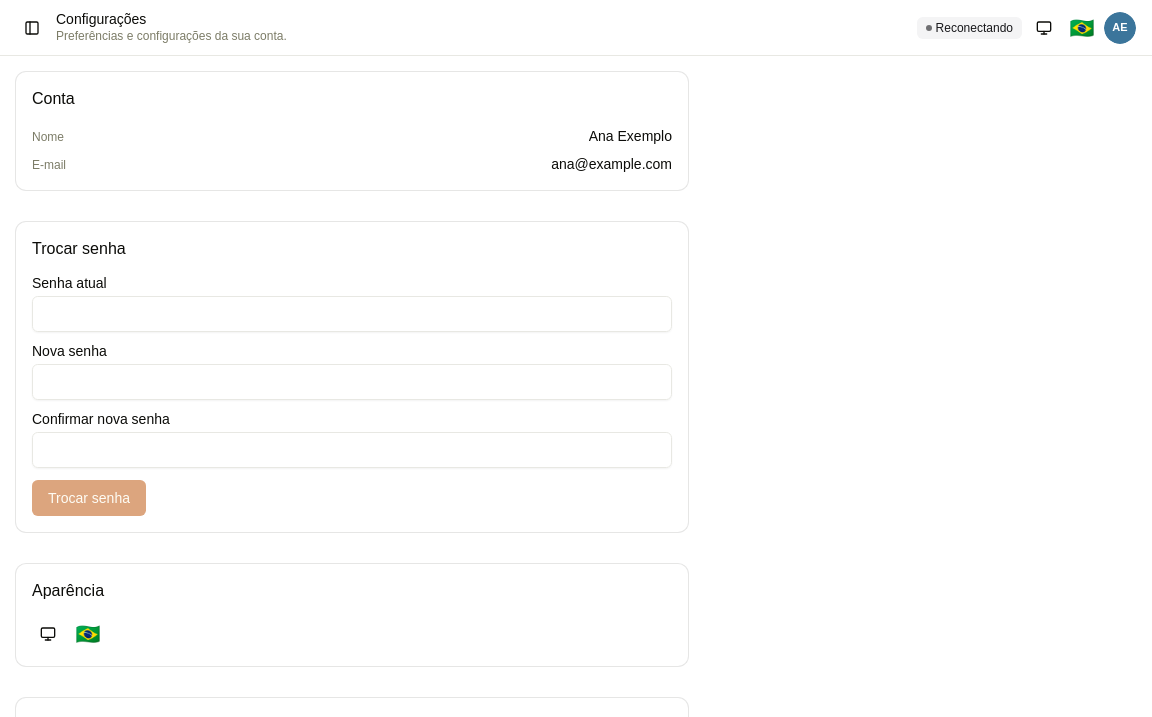
Test: settings: change password › changes the password and confirms with a message
expect the heading "Trocar senha" is shown: met, box [32, 240, 126, 257]
Type "senha-atual-123" into the password field labelled "Senha atual" at [352, 314], box [32, 296, 672, 332]
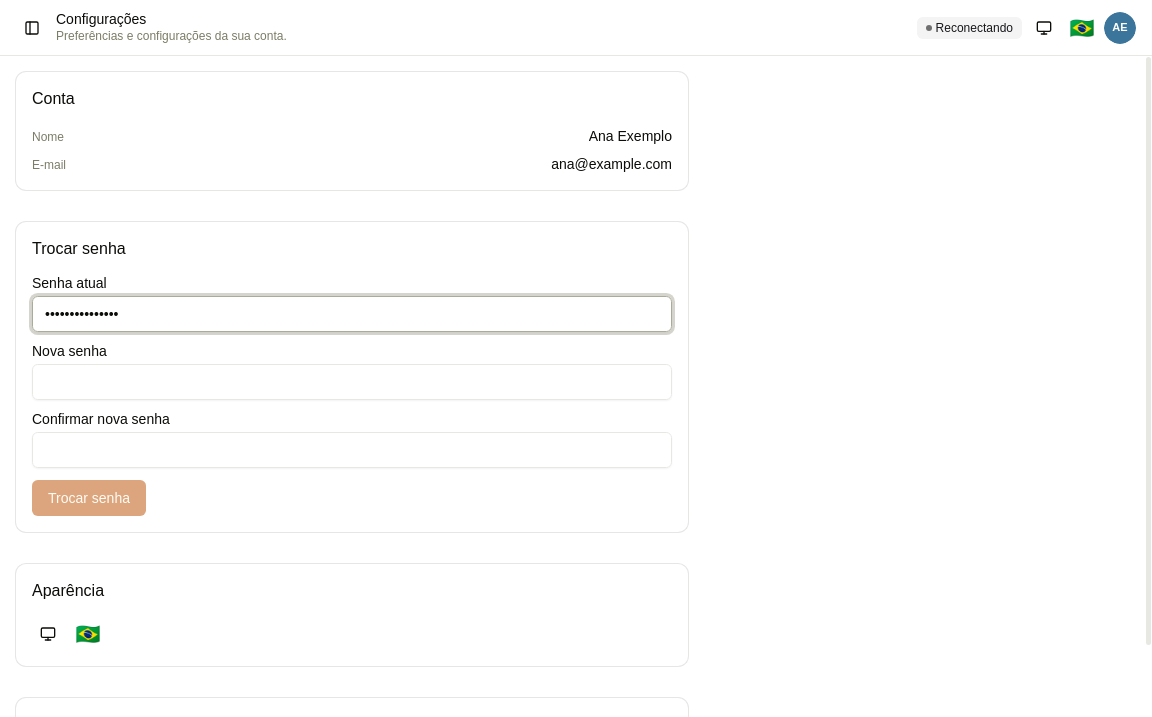
Type "nova-senha-123" into the password field labelled "Nova senha" at [352, 382], box [32, 364, 672, 400]
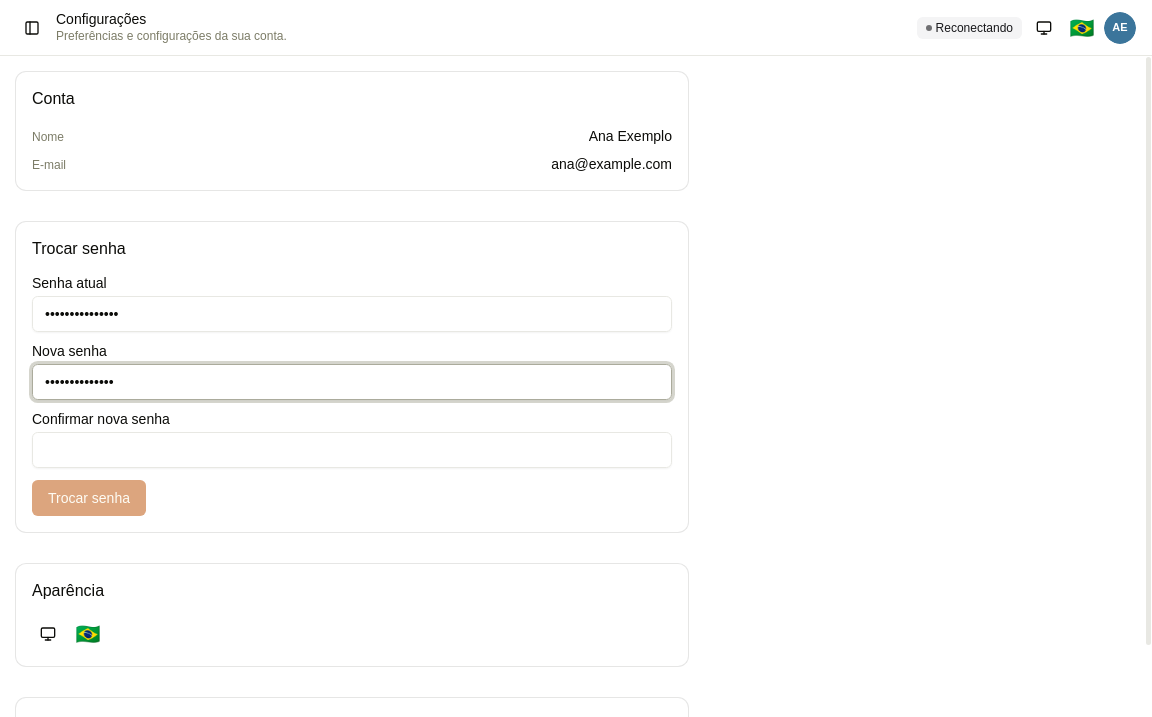
Type "nova-senha-123" into the password field labelled "Confirmar nova senha" at [352, 450], box [32, 432, 672, 468]
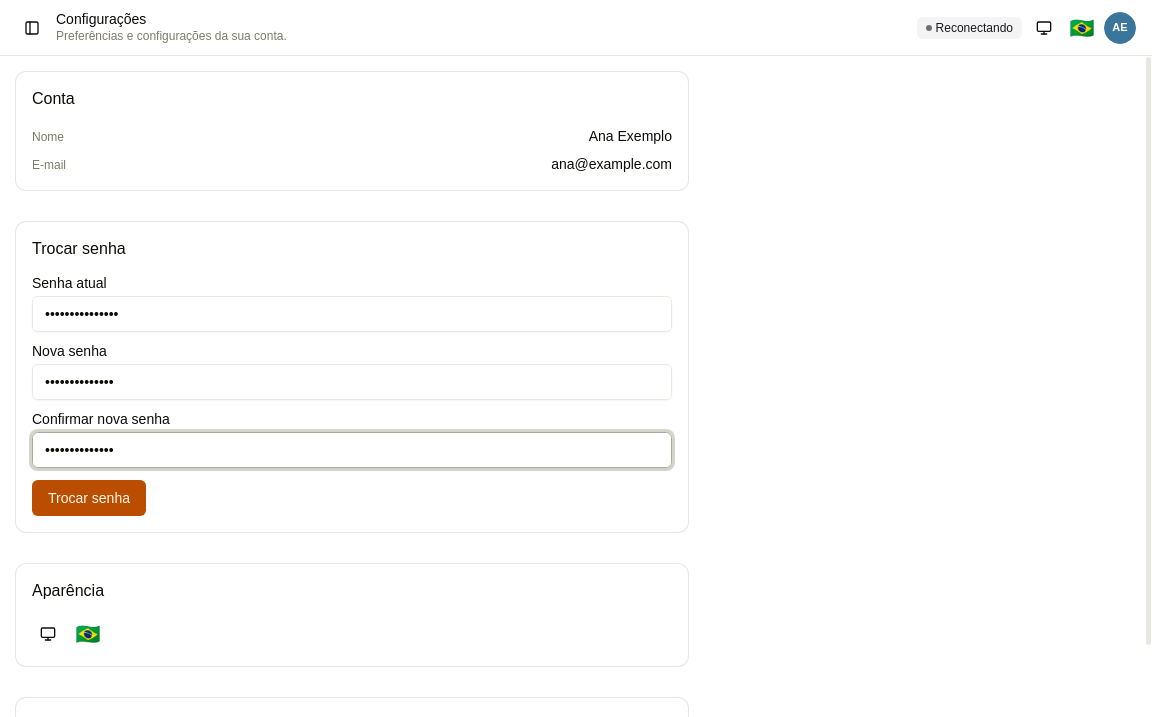
Click the button "Trocar senha" at [89, 498], box [32, 480, 146, 516]
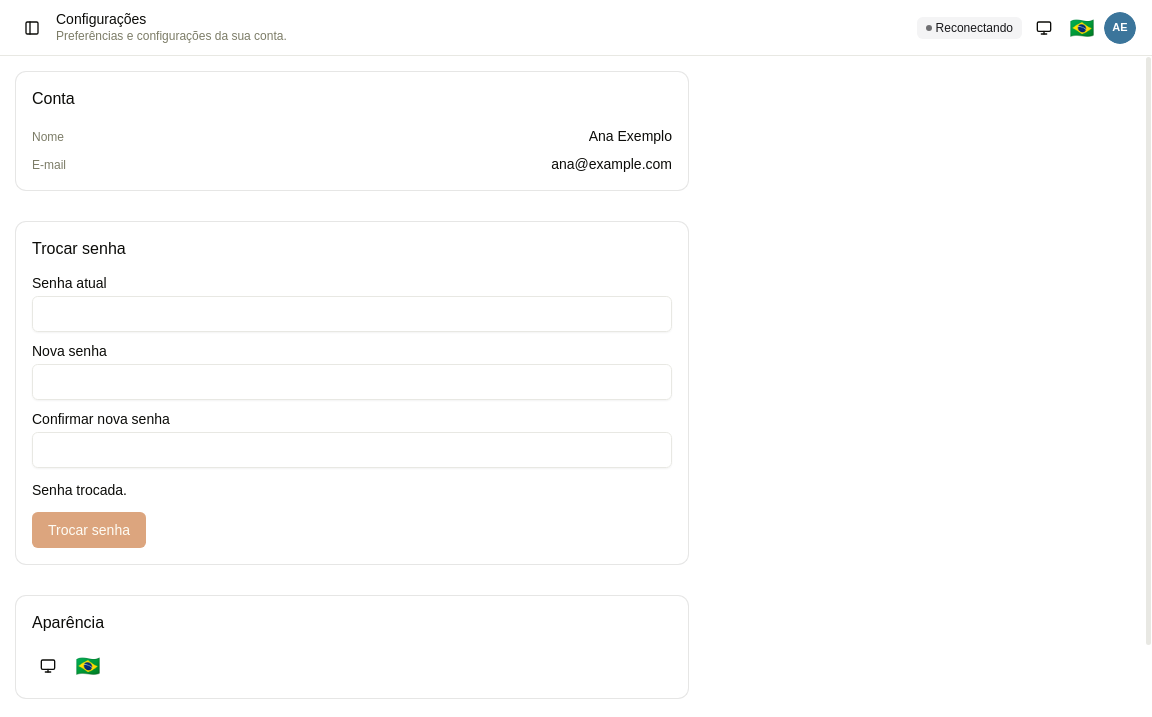
expect the message reads "Senha trocada.": met, box [32, 482, 127, 498]
expect the password field labelled "Senha atual" is empty: met, box [32, 296, 672, 332]
expect the password field labelled "Nova senha" is empty: met, box [32, 364, 672, 400]
